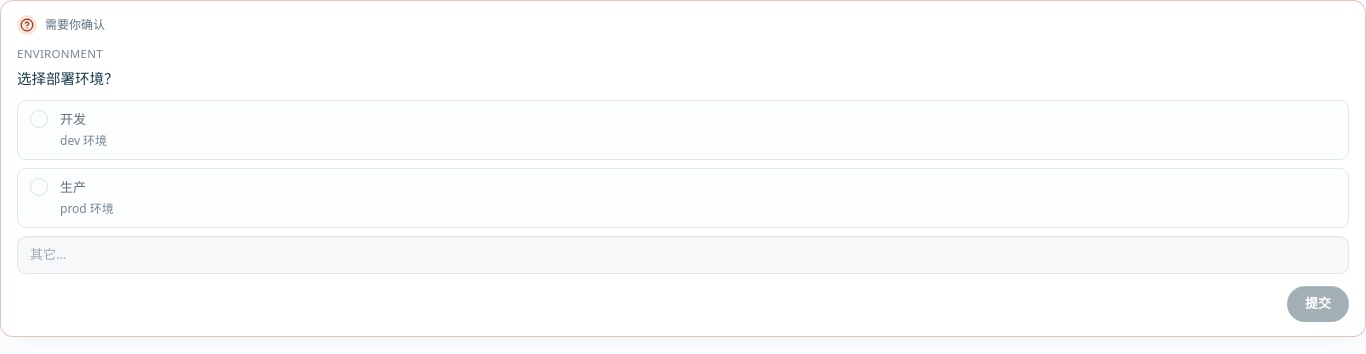
AskUserCard — pending (interactive, amber) › keeps a single-select option selected under React StrictMode
Click the button "开发 dev 环境": (84, 141) [17, 100, 1349, 160]
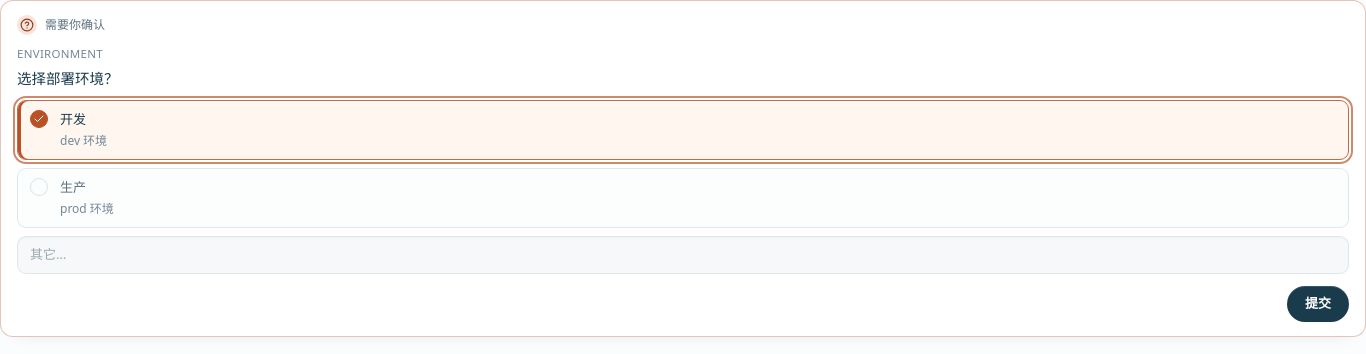
Check: the button "提交" is enabled, box [1287, 286, 1349, 322]
